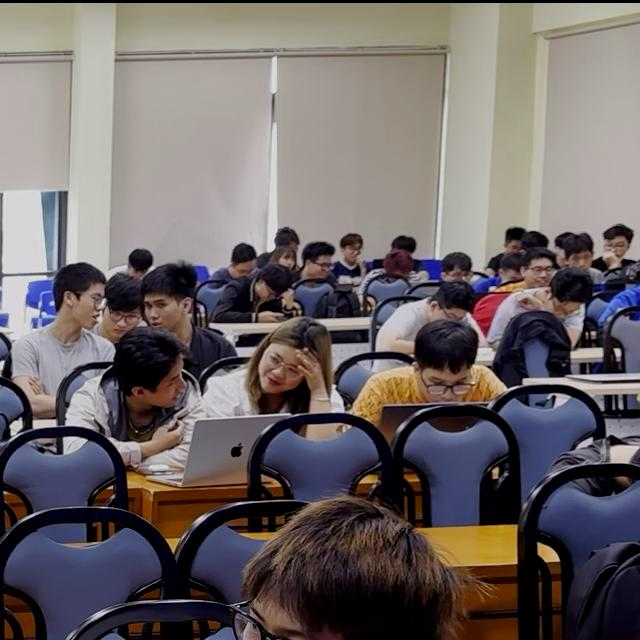Looking away: (416, 363, 475, 408), (141, 353, 187, 410), (257, 345, 307, 396), (141, 291, 187, 336), (69, 279, 106, 332)
